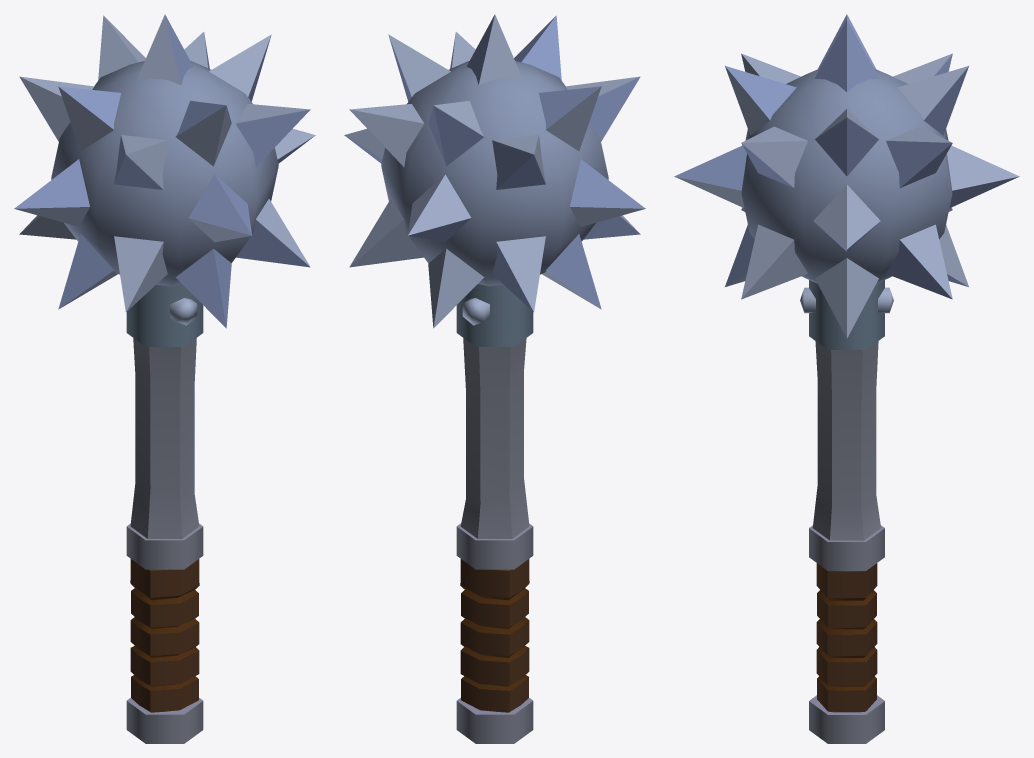
The model's file is mace.fbx.
The picture shows the model from 3 angles, left to right: view 1: azimuth 30°, elevation 25°; view 2: azimuth 150°, elevation 25°; view 3: azimuth 270°, elevation 25°; orthographic projection.
Visible parts, largest first — view 1: Mace; view 2: Mace; view 3: Mace.
Part boxes in pixels (x1,y1,x2,y2): Mace: (14, 14, 315, 743); Mace: (344, 14, 645, 743); Mace: (674, 14, 1019, 743).
Bounding box in the file's own units: 0.4717 × 1.07 × 0.4717.
Materials: 1 (1 with a texture image).
